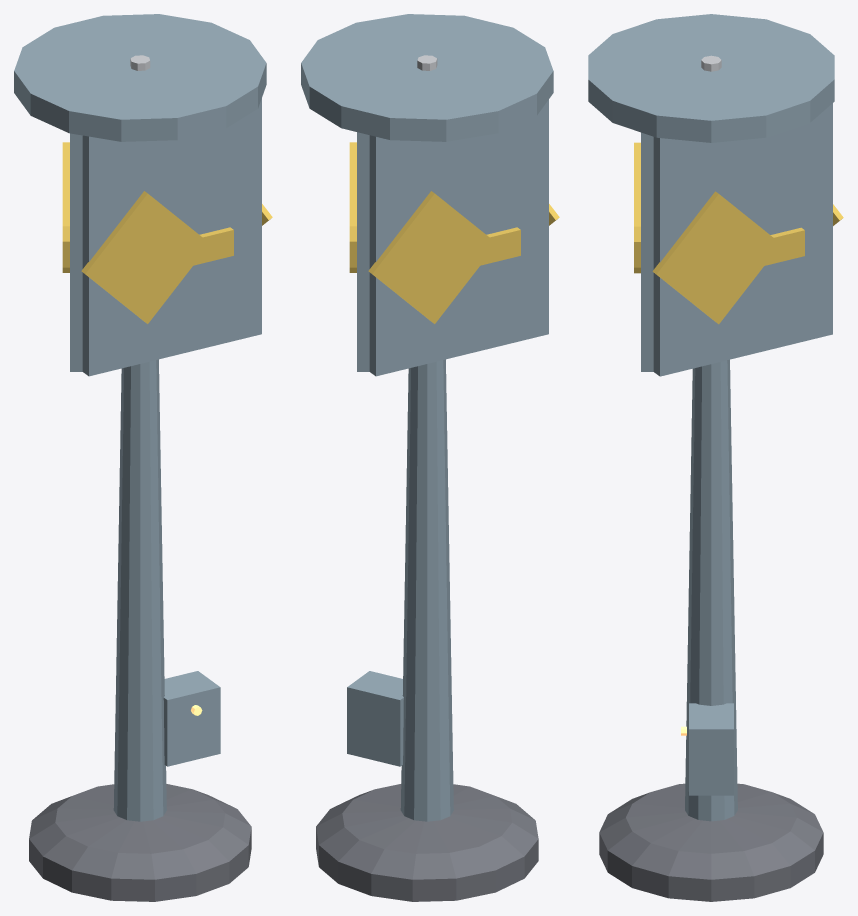
The model's file is animated-mechanisms-kit-revolving-sign-543a9394__24629.glb.
The picture shows the model from 3 angles, left to right: view 1: azimuth 30°, elevation 25°; view 2: azimuth 150°, elevation 25°; view 3: azimuth 270°, elevation 25°; orthographic projection.
Parts seen in each view (by area): view 1: sign/paint, revolving-sign, sign/accent; view 2: sign/paint, revolving-sign, sign/accent; view 3: sign/paint, revolving-sign, sign/accent.
Part boxes in pixels (x1,y1,x2,y2): sign/paint: (14, 14, 266, 376); revolving-sign: (29, 359, 251, 901); sign/accent: (62, 142, 272, 323); sign/paint: (301, 14, 553, 376); revolving-sign: (316, 359, 538, 901); sign/accent: (349, 142, 559, 323); sign/paint: (588, 14, 834, 376); revolving-sign: (599, 359, 823, 901); sign/accent: (634, 142, 843, 324).
Bounding box in the file's own units: 1.24 × 4.3 × 1.25.
